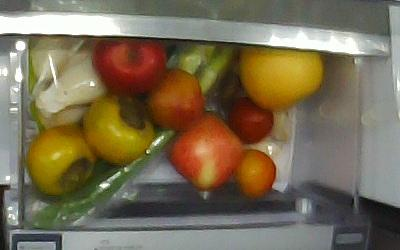apple: (172, 115, 244, 190), (91, 39, 169, 98)
grapefruit: (236, 44, 325, 107)
persimmon: (82, 97, 155, 162), (27, 127, 94, 195)
prune: (143, 69, 206, 128), (230, 149, 276, 198), (226, 100, 273, 145)
